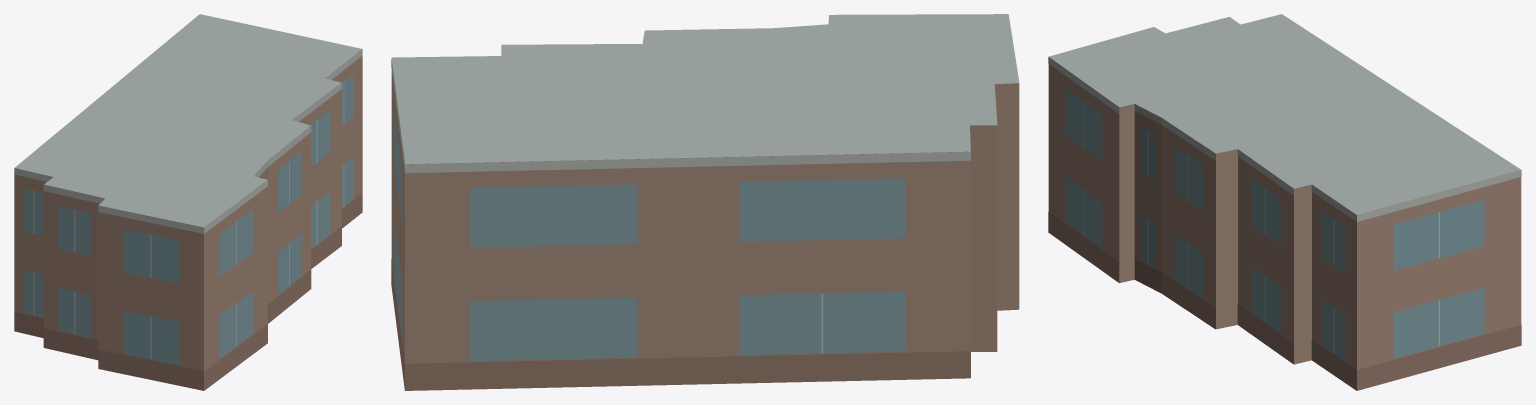
The model's file is survey-upis-32674426.glb.
3 views of the same model, side by side, from view 1: azimuth 30°, elevation 25°; view 2: azimuth 150°, elevation 25°; view 3: azimuth 270°, elevation 25° (orthographic). The views are drawn at different scales.
Parts seen in each view (by area): view 1: survey-upis-32674426.tmp; view 2: survey-upis-32674426.tmp; view 3: survey-upis-32674426.tmp.
Part boxes in pixels (x1,y1,x2,y2): survey-upis-32674426.tmp: [14, 14, 362, 390]; survey-upis-32674426.tmp: [391, 14, 1019, 390]; survey-upis-32674426.tmp: [1048, 14, 1521, 390].
Size of the model in its own units: 14.97 by 6.1 by 14.88.
